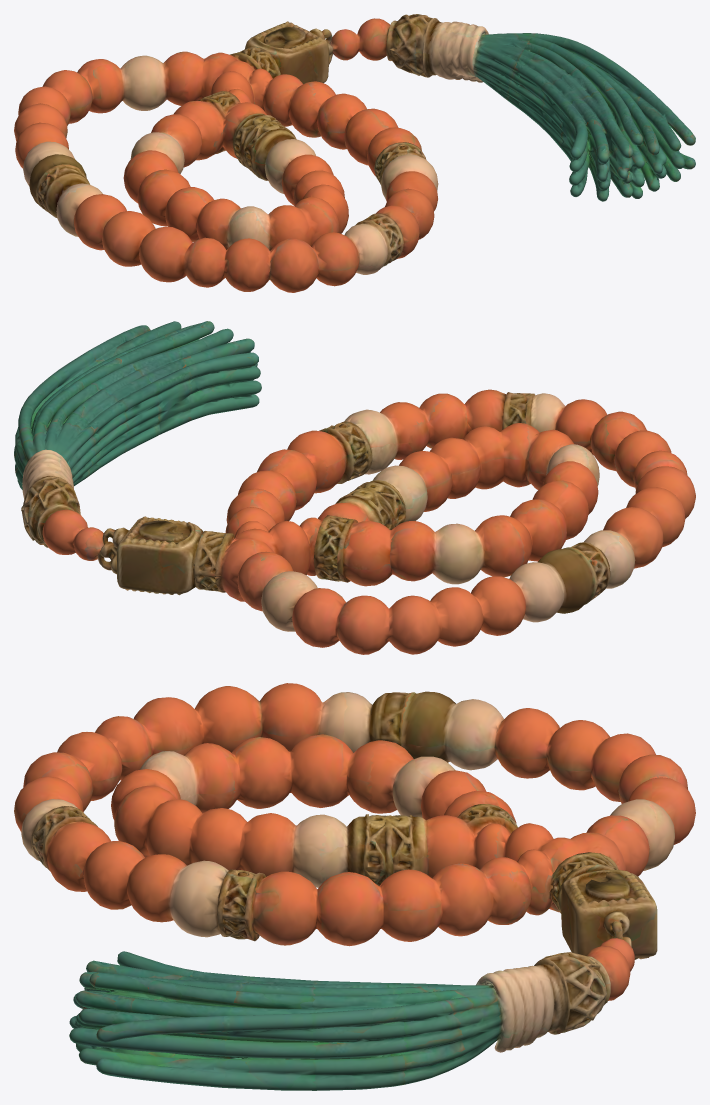
Rendered from tasbih-04-terracotta-heritage.glb.
The picture shows the model from 3 angles, top to bottom: view 1: azimuth 30°, elevation 25°; view 2: azimuth 150°, elevation 25°; view 3: azimuth 270°, elevation 25°; orthographic projection. The views are drawn at different scales.
Parts seen in each view (by area): view 1: mesh_node; view 2: mesh_node; view 3: mesh_node.
Boxes of the visible parts, x1,y1,x2,y2 form: mesh_node: [14, 14, 695, 292]; mesh_node: [14, 321, 695, 654]; mesh_node: [14, 683, 695, 1090].
Bounding box in the file's own units: 1.9 × 0.2146 × 1.57.
1 material, 1 textured.
